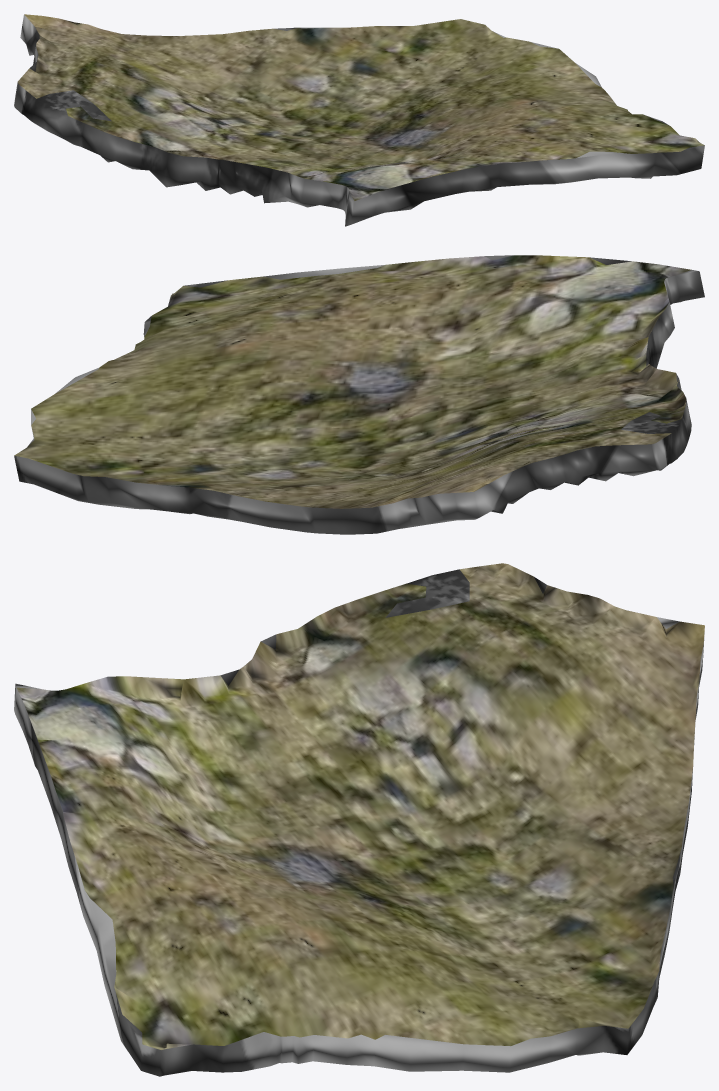
The model's file is terreno.glb.
The picture shows the model from 3 angles, top to bottom: view 1: azimuth 30°, elevation 25°; view 2: azimuth 150°, elevation 25°; view 3: azimuth 270°, elevation 25°; orthographic projection. The views are drawn at different scales.
Parts seen in each view (by area): view 1: Geom3D; view 2: Geom3D; view 3: Geom3D.
Part boxes in pixels (left/top/right/bottom): Geom3D: left=14, top=14, right=704, bottom=226; Geom3D: left=14, top=255, right=704, bottom=534; Geom3D: left=14, top=563, right=704, bottom=1076.
Bounding box in the file's own units: 14.71 × 3.16 × 11.98.
Materials: 2 (2 with a texture image).
